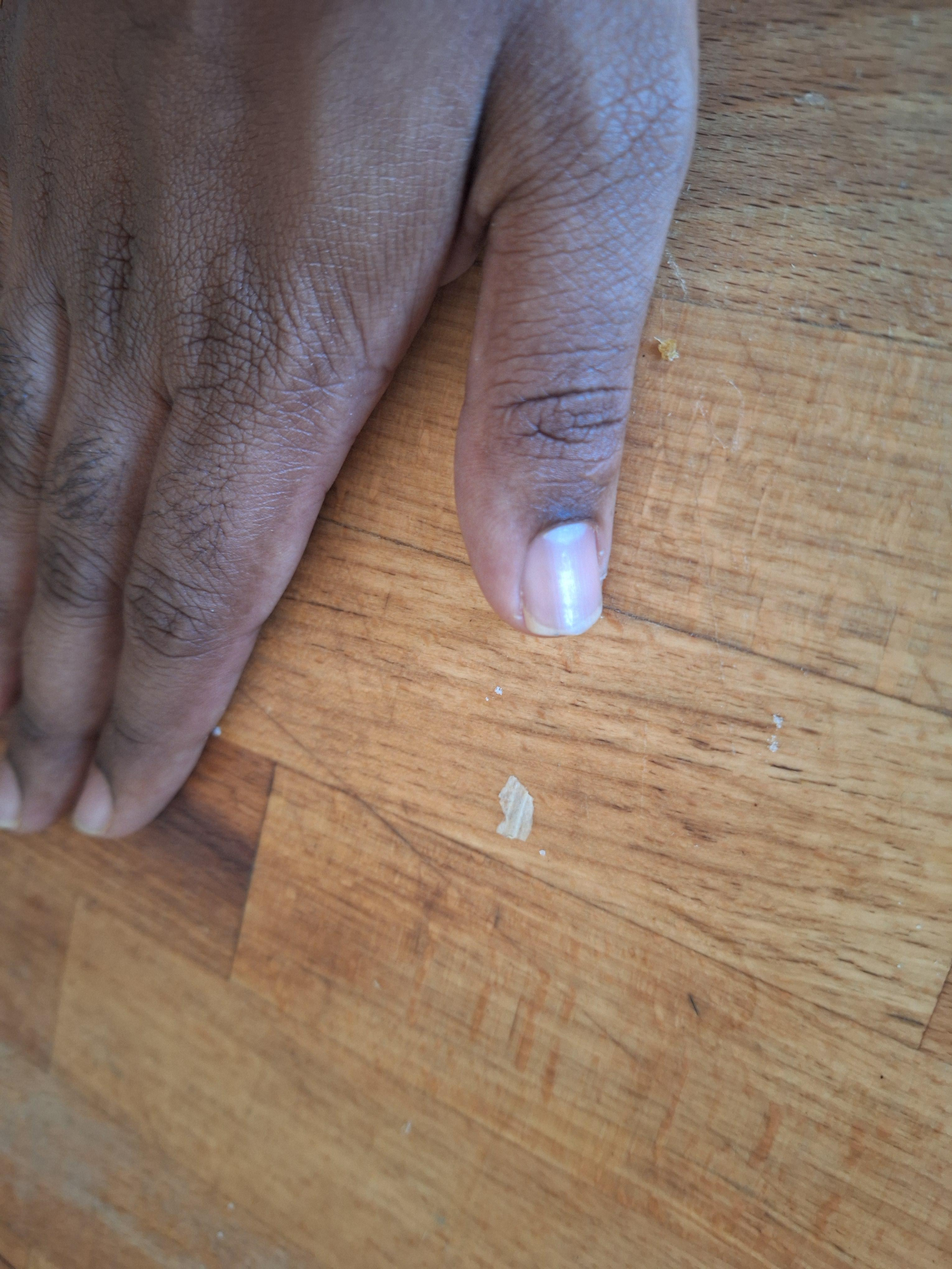Fingernail: (524, 522, 603, 637), (71, 763, 114, 835)
